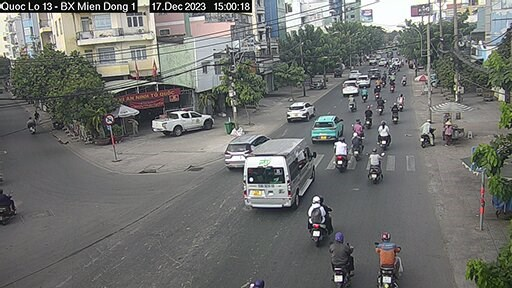car: (240, 132, 325, 209), (147, 105, 238, 139), (214, 121, 280, 165), (304, 110, 345, 140), (284, 103, 326, 121), (334, 79, 363, 100)
motorbike: (295, 189, 333, 246), (317, 220, 349, 272), (371, 223, 396, 277), (330, 140, 351, 182), (369, 148, 381, 188)
